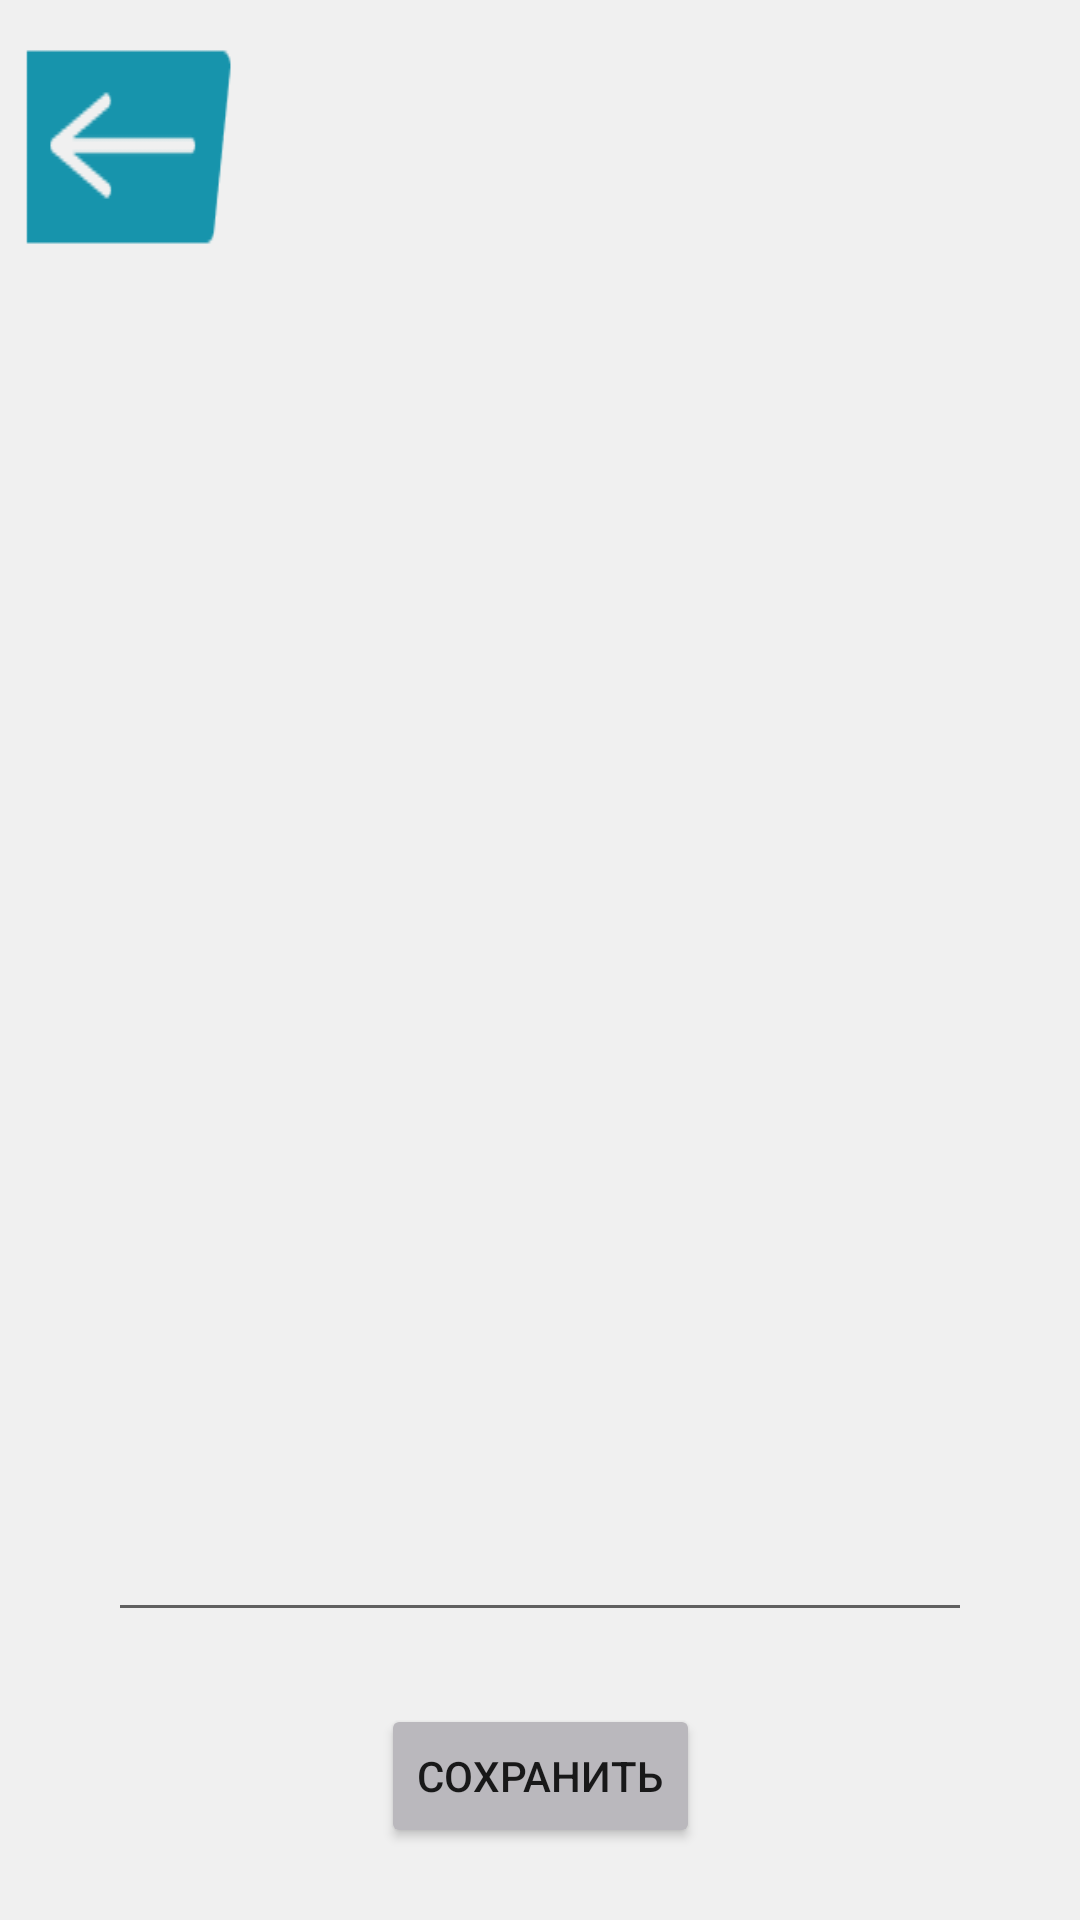

Named icons in this screenshot (1080w x 1920h) and their centers, (x=x, y=y):
back: (x=128, y=147)
